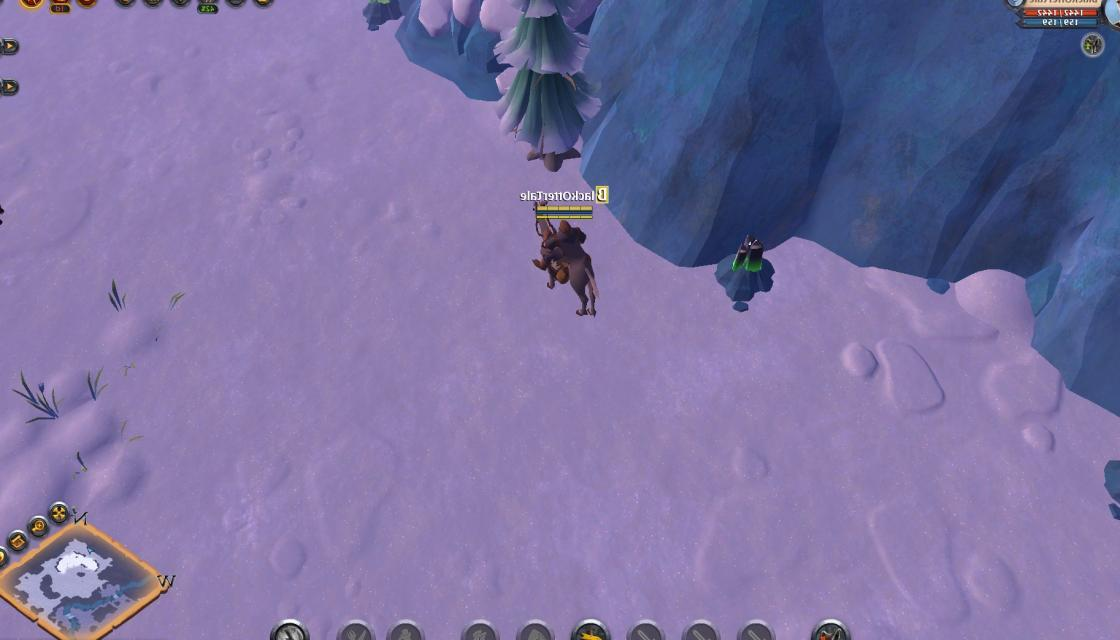copperore: (1105, 446, 1120, 528)
tinore: (713, 236, 779, 306), (362, 0, 406, 28)
